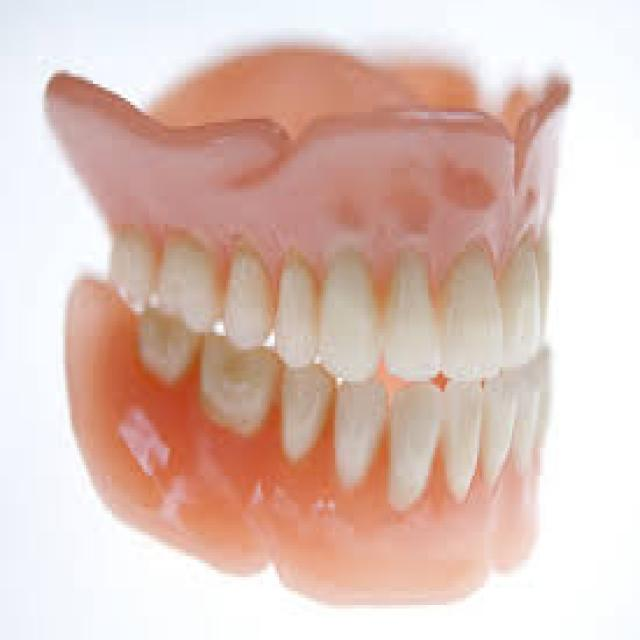tooth: (198, 336, 288, 437), (317, 248, 377, 388), (384, 238, 440, 388), (450, 245, 508, 378), (384, 378, 438, 507), (160, 217, 217, 336), (272, 231, 314, 371), (332, 370, 382, 482), (436, 374, 480, 500), (510, 241, 556, 357), (224, 242, 268, 346), (107, 227, 156, 315), (514, 367, 554, 472), (284, 370, 333, 454), (138, 308, 188, 388), (484, 378, 512, 497)
